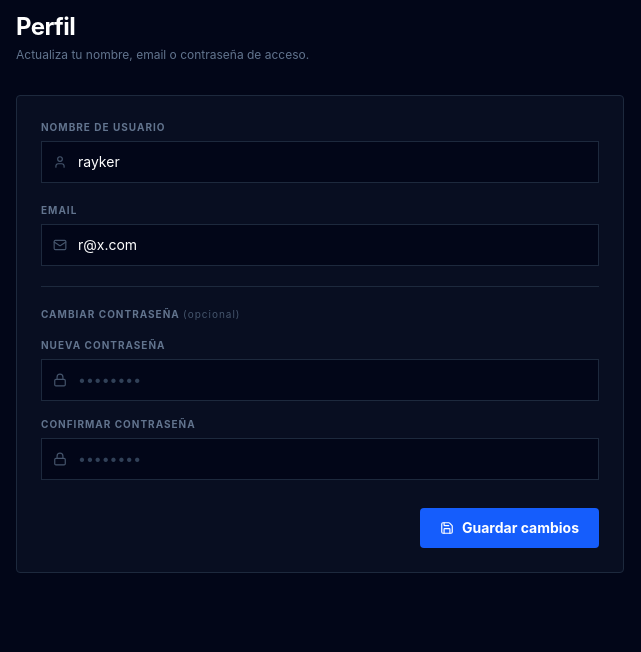
ProfileSettings › fallo de red en submit muestra el mensaje de error genérico
The width and height of the screenshot is (641, 652).
Check: the field showing "rayker" below "Nombre de usuario" is shown, box [41, 141, 599, 183]
Click the button "Guardar cambios": (510, 528) [420, 508, 599, 548]
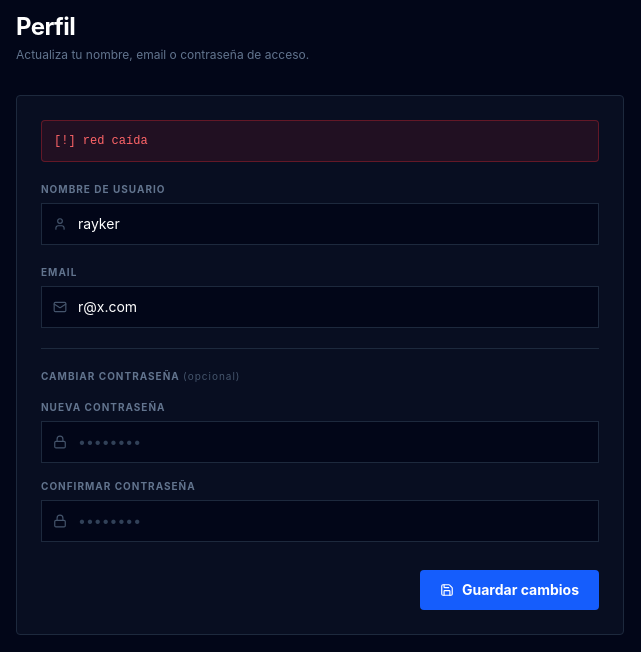
Check: the text "[!] red caída" is shown, box [41, 120, 599, 162]
